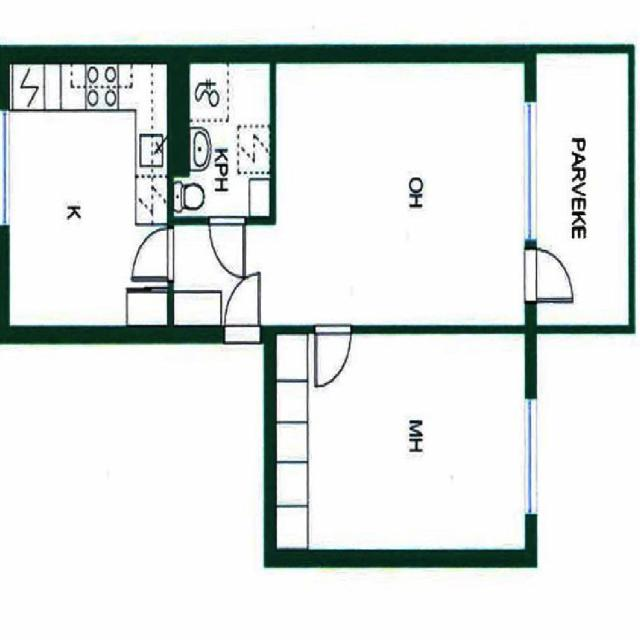door: (524, 248, 573, 302), (224, 272, 260, 344), (130, 228, 173, 280), (209, 216, 245, 278), (315, 326, 350, 386)
